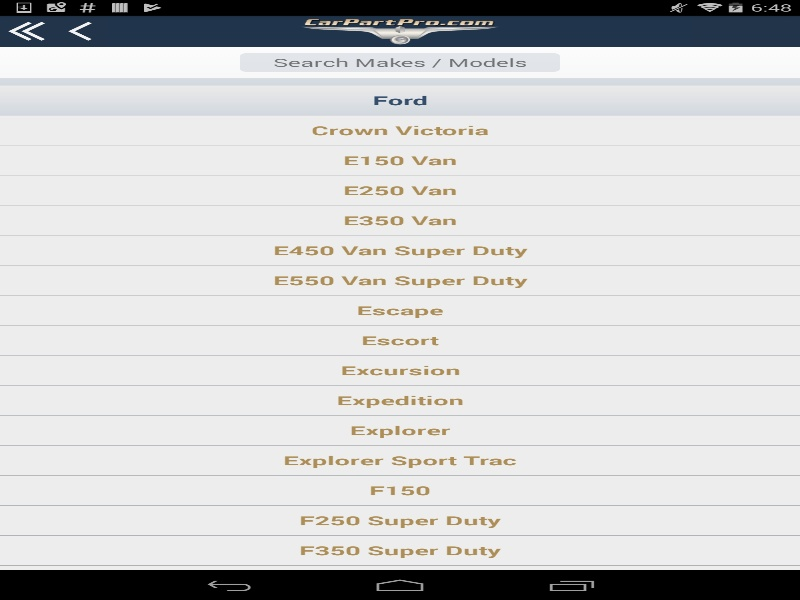Button: (0, 15, 53, 46), (53, 15, 106, 46)
Input: (240, 53, 560, 71)
